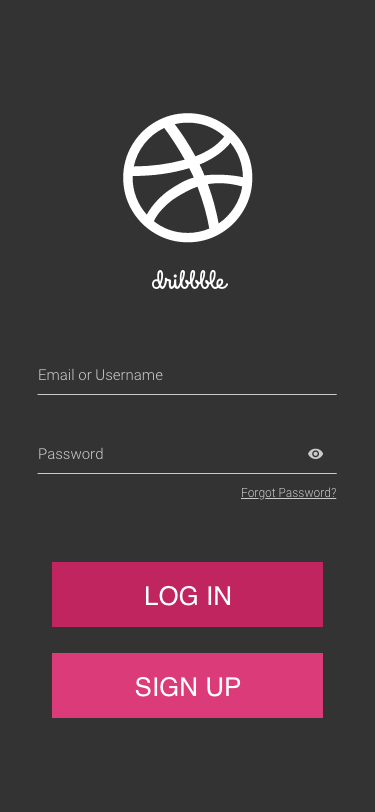EditText: (37, 368, 338, 396), (37, 447, 338, 475)
Icon: (308, 448, 324, 460)
Image: (123, 113, 254, 244), (152, 269, 230, 291)
Text: (39, 368, 164, 381), (241, 487, 337, 501), (39, 447, 104, 460)
TextButton: (52, 562, 324, 628), (52, 653, 324, 719)
